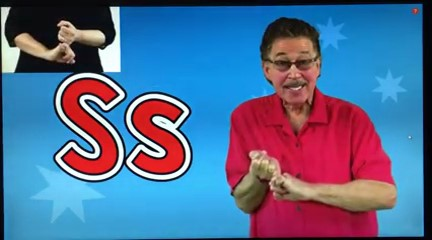S: (239, 142, 323, 211)
